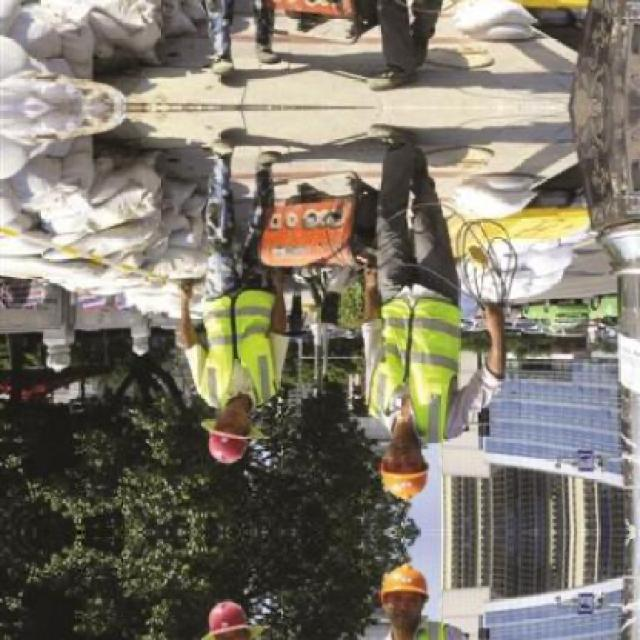con casco: (329, 338, 489, 496), (187, 316, 290, 472)
